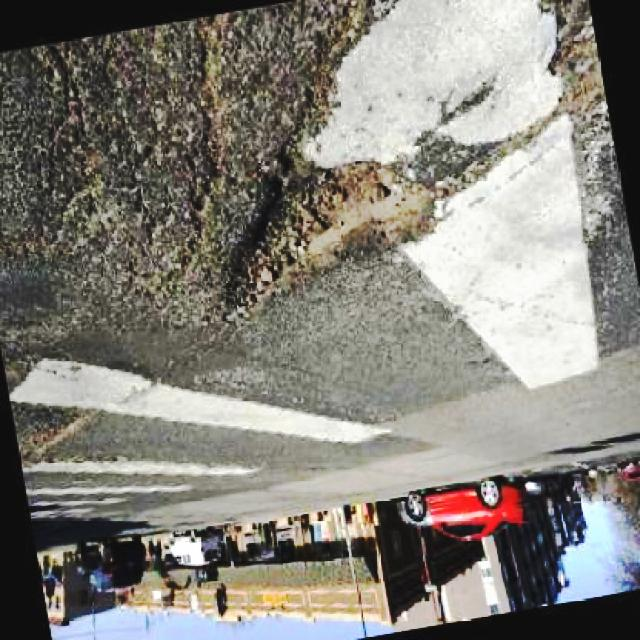pothole: (215, 158, 452, 332), (538, 0, 612, 128)
